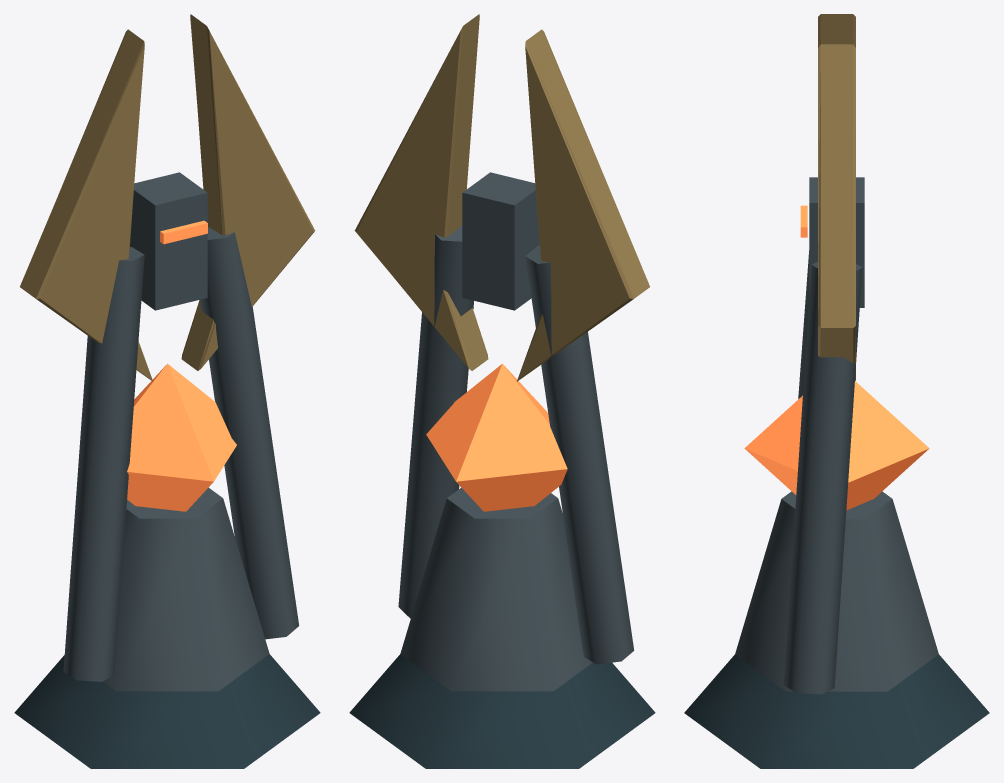
The model's file is spire.glb.
3 views of the same model, side by side, from view 1: azimuth 30°, elevation 25°; view 2: azimuth 150°, elevation 25°; view 3: azimuth 270°, elevation 25° (orthographic).
Parts seen in each view (by area): view 1: stone (×2), armour_frame (×2), blade (×2), heart, visor, eye; view 2: stone (×2), blade (×2), armour_frame (×2), heart, visor; view 3: stone (×2), armour_frame (×2), blade (×2), heart, visor.
Part boxes in pixels (x1=…): stone (×2): x1=14, y1=487, x2=320, y2=768; armour_frame (×2): x1=63, y1=227, x2=299, y2=681; blade (×2): x1=20, y1=14, x2=315, y2=381; heart: x1=127, y1=363, x2=236, y2=511; visor: x1=130, y1=172, x2=207, y2=310; eye: x1=160, y1=220, x2=207, y2=244; stone (×2): x1=349, y1=487, x2=655, y2=768; blade (×2): x1=354, y1=14, x2=649, y2=381; armour_frame (×2): x1=398, y1=225, x2=634, y2=664; heart: x1=426, y1=363, x2=567, y2=511; visor: x1=462, y1=172, x2=539, y2=310; stone (×2): x1=684, y1=491, x2=989, y2=768; armour_frame (×2): x1=783, y1=250, x2=862, y2=694; blade (×2): x1=818, y1=14, x2=855, y2=380; heart: x1=744, y1=381, x2=929, y2=510; visor: x1=809, y1=177, x2=864, y2=307.
Bounding box in the file's own units: 0.6947 × 1.63 × 0.66.
